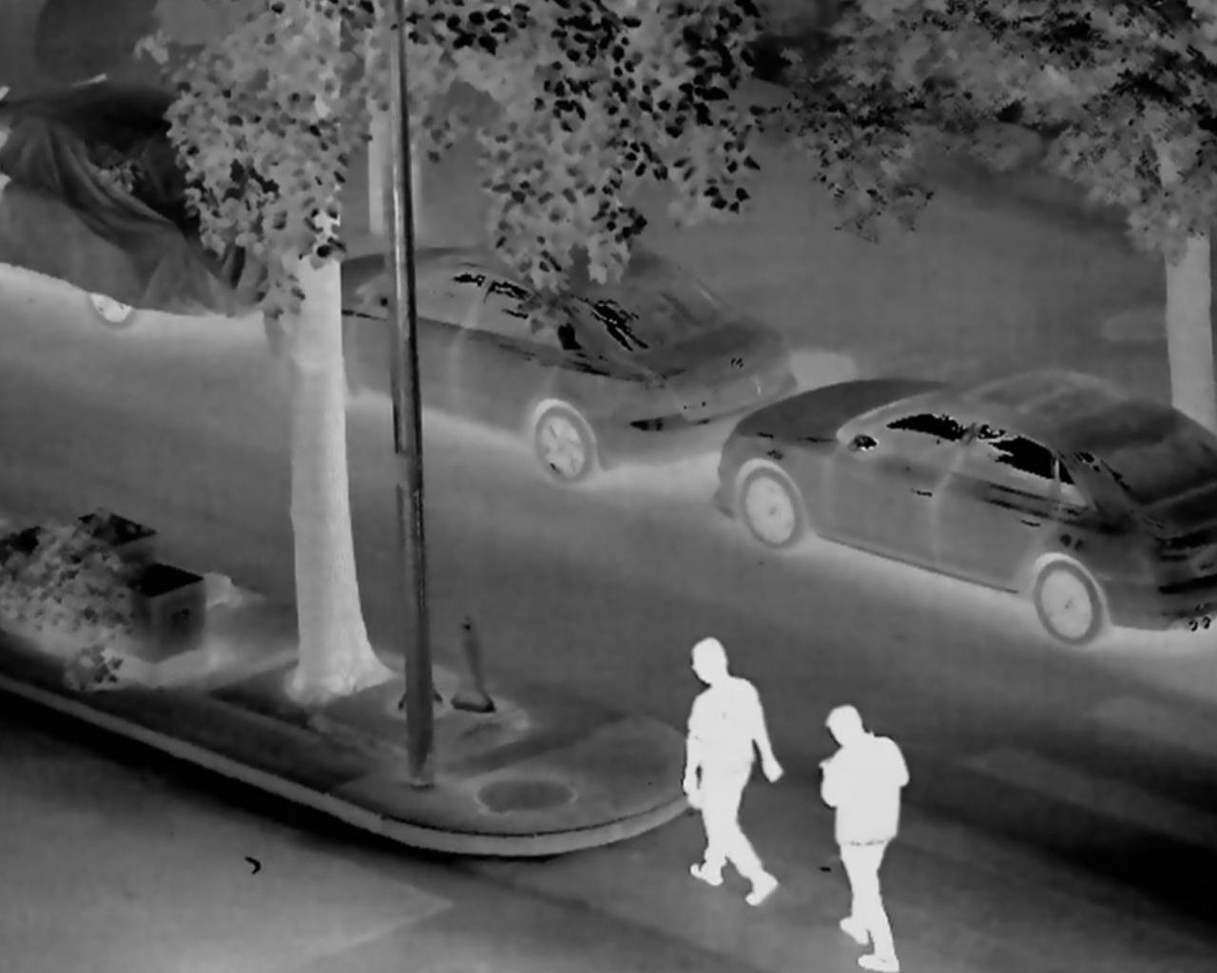person: (675, 616, 786, 912), (823, 703, 927, 973)
